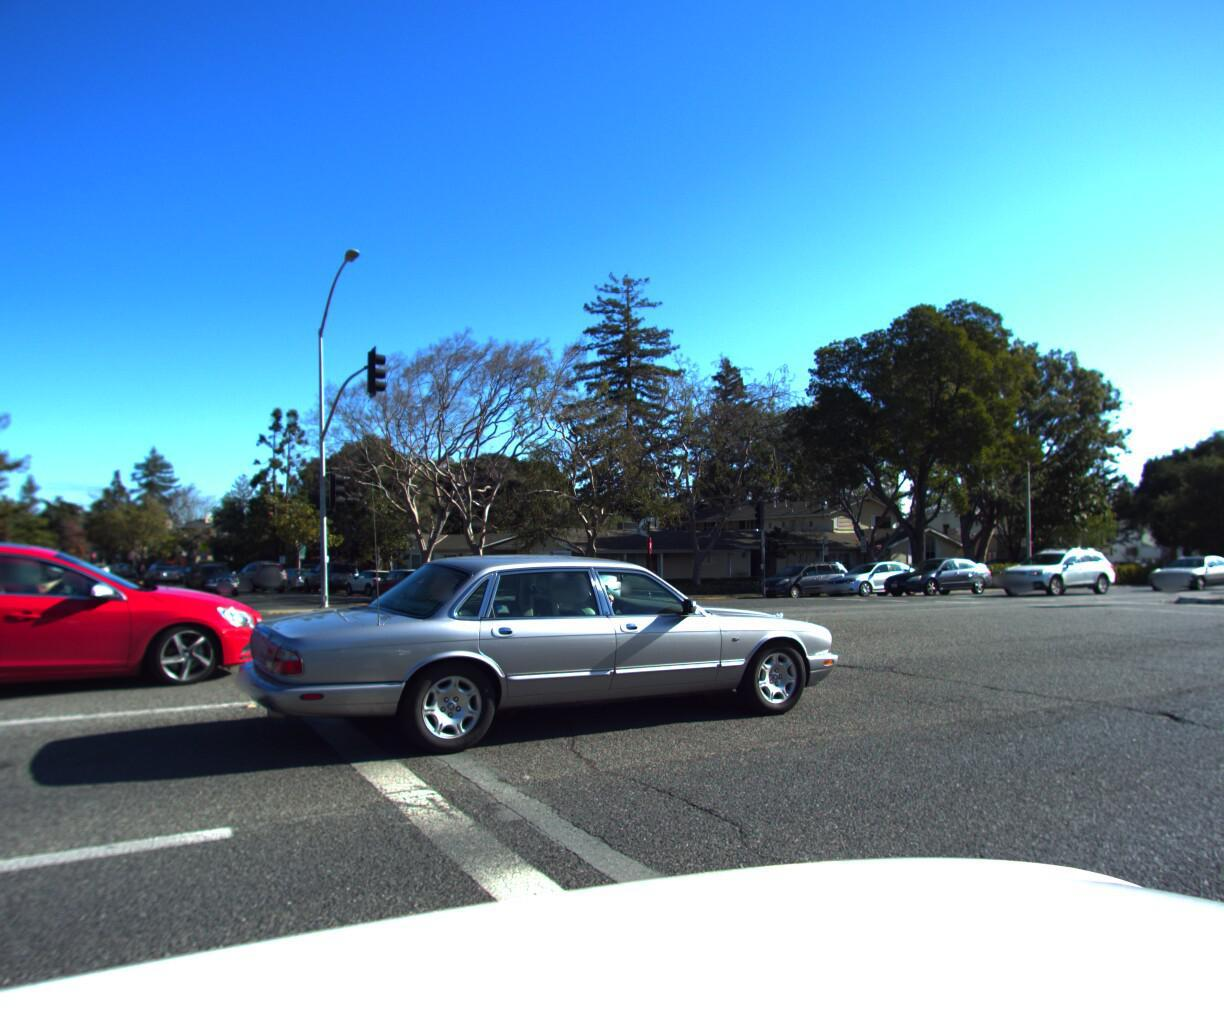bicycle: (128, 562, 158, 594)
car: (232, 539, 867, 783), (0, 536, 274, 731), (988, 543, 1120, 596), (523, 556, 630, 613), (873, 552, 996, 596), (820, 557, 934, 596), (753, 556, 855, 598), (364, 560, 443, 602), (1137, 553, 1224, 590), (298, 557, 367, 593), (183, 554, 246, 593), (341, 562, 407, 597), (232, 551, 291, 587), (270, 564, 327, 594), (146, 568, 182, 590), (1223, 536, 1224, 583)
